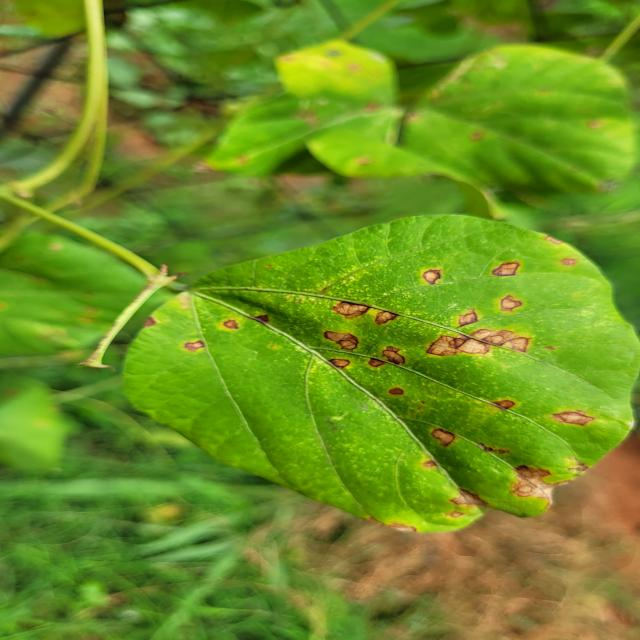Dolicos bean_cercospora leaf spot: (130, 207, 640, 534), (415, 50, 640, 194), (210, 35, 396, 178)
